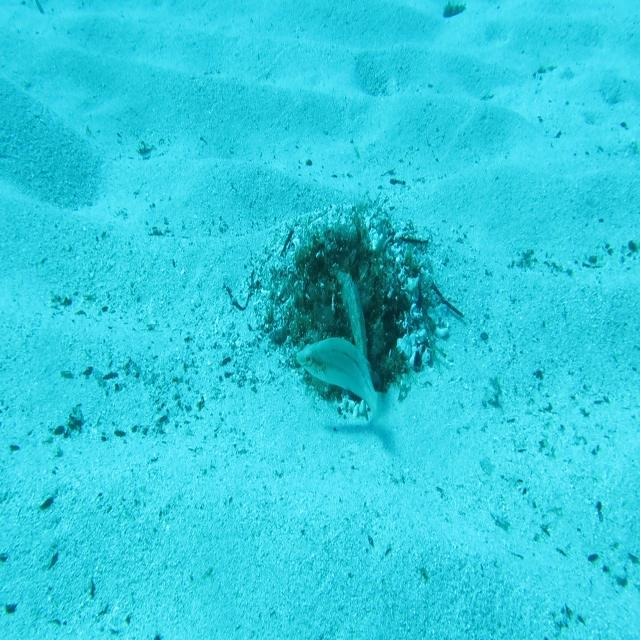FAN: (336, 268, 370, 424)
core_nest: (320, 248, 374, 304)
female: (294, 334, 394, 437)
nest: (249, 190, 464, 426)
vegetation: (441, 0, 466, 21)
